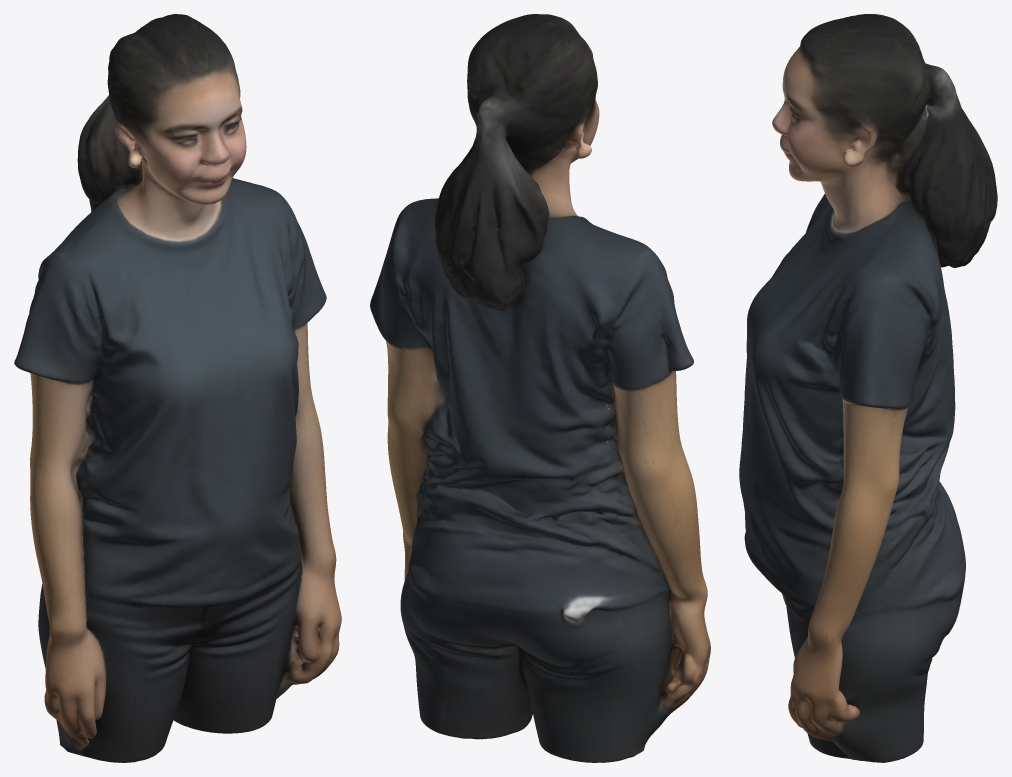
File: statue2.glb
3 renders of one model, left to right at view 1: azimuth 30°, elevation 25°; view 2: azimuth 150°, elevation 25°; view 3: azimuth 270°, elevation 25°, orthographic.
Visible parts, largest first — view 1: world; view 2: world; view 3: world.
Boxes of the visible parts, x1,y1,x2,y2 form: world: (14, 14, 341, 762); world: (370, 14, 710, 762); world: (739, 14, 997, 762).
Size of the model in its own units: 0.4694 by 1 by 0.3368.
Materials: 1 (1 with a texture image).
